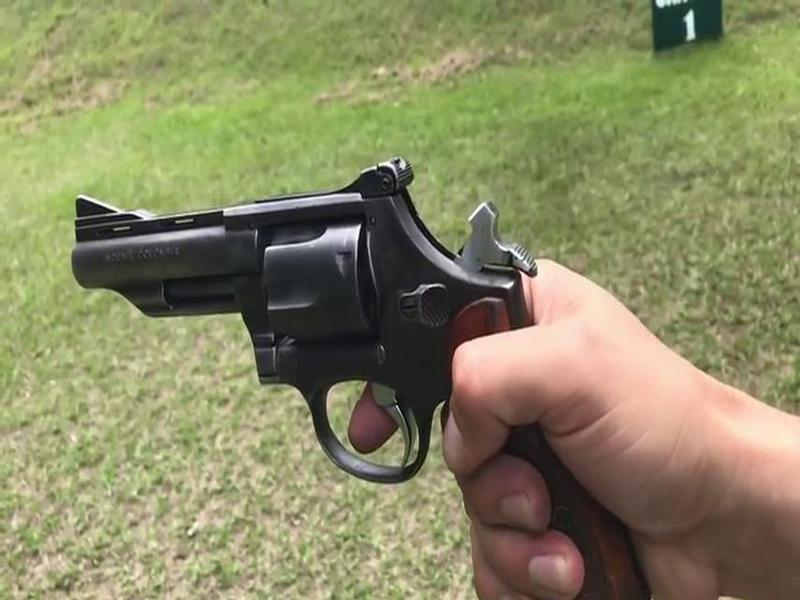Revolver: (52, 146, 641, 591)
